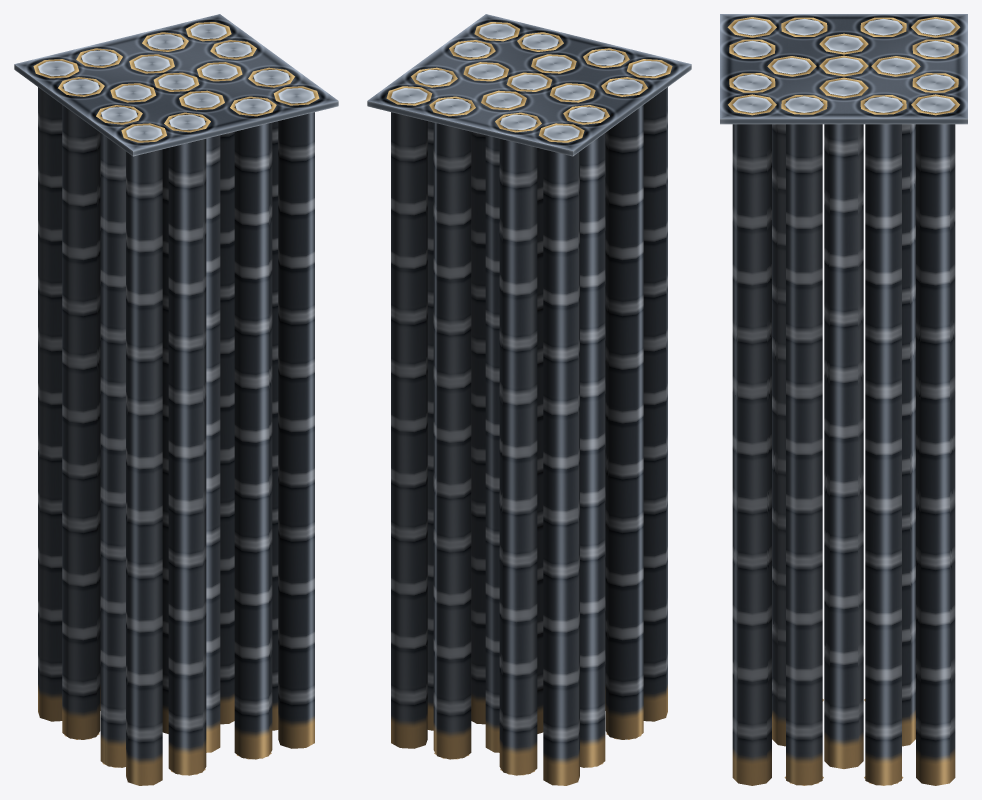
File: suz_rods_lod.obj
3 renders of one model, left to right at view 1: azimuth 30°, elevation 25°; view 2: azimuth 150°, elevation 25°; view 3: azimuth 270°, elevation 25°, orthographic. The views are drawn at different scales.
Parts seen in each view (by area): view 1: suz_rods_lod; view 2: suz_rods_lod; view 3: suz_rods_lod.
Boxes of the visible parts, bbox=[...] form: suz_rods_lod: bbox=[14, 14, 338, 785]; suz_rods_lod: bbox=[367, 14, 691, 785]; suz_rods_lod: bbox=[720, 14, 967, 785].
Bounding box in the file's own units: 1 × 3 × 1.
